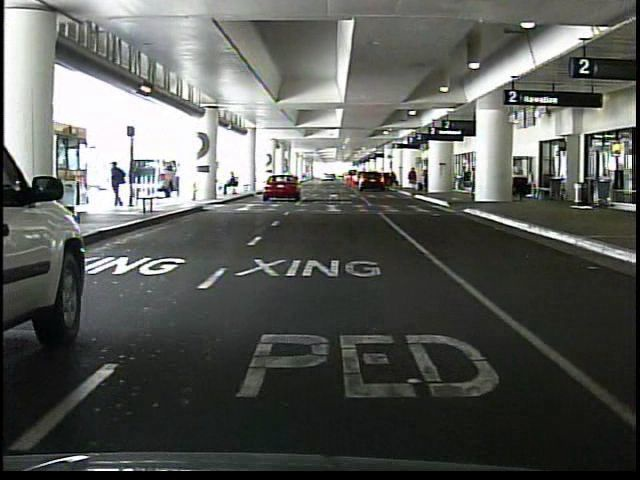person: (112, 162, 129, 207), (223, 173, 240, 197), (409, 165, 420, 193)
